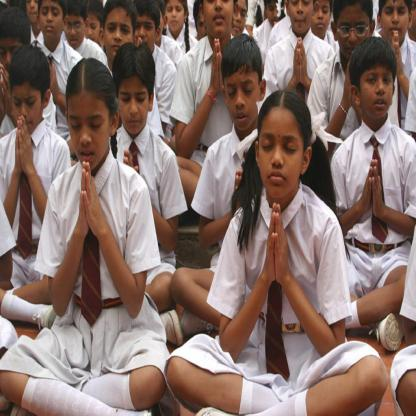face: (259, 118, 303, 200), (69, 102, 111, 170), (225, 70, 261, 131), (360, 63, 394, 119), (337, 8, 371, 61), (118, 79, 149, 134), (12, 87, 43, 134), (105, 13, 135, 61), (204, 1, 235, 37), (383, 3, 410, 43), (3, 39, 27, 78), (40, 3, 64, 39), (289, 1, 314, 34), (134, 17, 156, 53), (309, 3, 331, 37), (66, 15, 87, 48), (230, 1, 248, 39), (83, 17, 101, 46), (166, 4, 185, 31), (267, 1, 282, 27), (198, 16, 212, 41), (27, 1, 41, 24)
